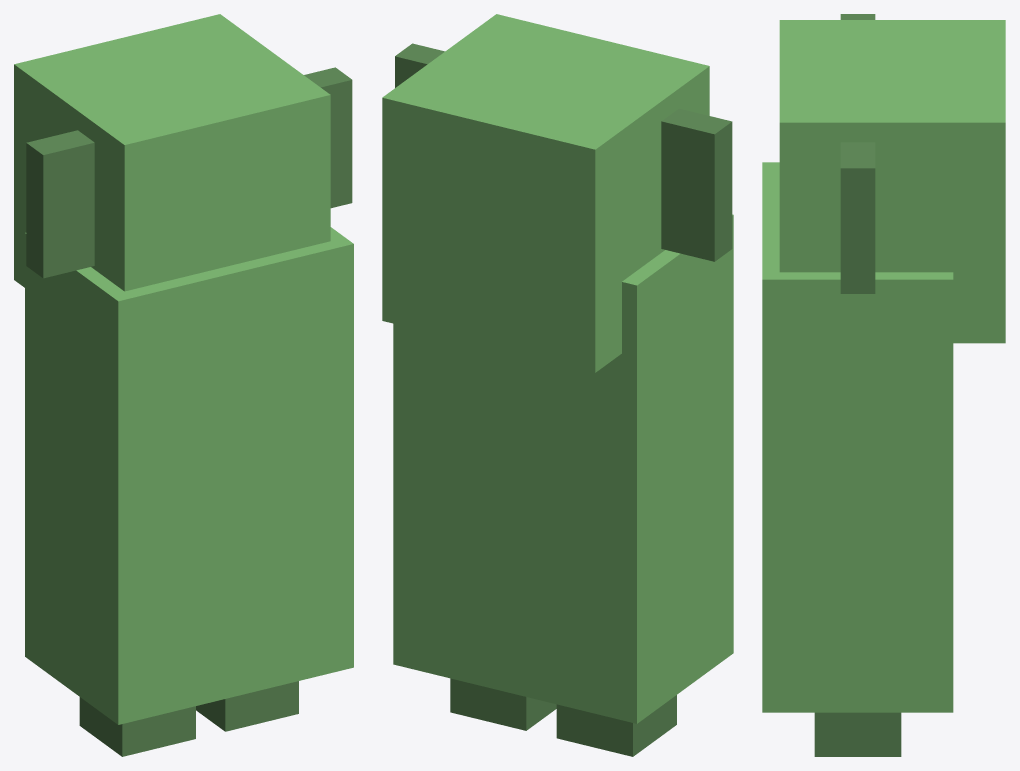
File: voxel_goblin.glb
3 renders of one model, left to right at view 1: azimuth 30°, elevation 25°; view 2: azimuth 150°, elevation 25°; view 3: azimuth 270°, elevation 25°, orthographic. The views are drawn at different scales.
Parts seen in each view (by area): view 1: g_body, g_head, g_earL, g_legL, g_earR, g_legR; view 2: g_body, g_head, g_earL, g_legL, g_legR, g_earR; view 3: g_body, g_head, g_earR, g_legR.
Boxes of the visible parts, left/top/right/bottom form: g_body: left=25, top=227, right=353, bottom=724; g_head: left=14, top=14, right=330, bottom=291; g_earL: left=26, top=130, right=94, bottom=278; g_legL: left=79, top=697, right=195, bottom=756; g_earR: left=304, top=67, right=352, bottom=208; g_legR: left=196, top=681, right=298, bottom=731; g_body: left=393, top=214, right=733, bottom=723; g_head: left=382, top=14, right=709, bottom=372; g_earL: left=661, top=108, right=732, bottom=261; g_legL: left=556, top=695, right=676, bottom=756; g_legR: left=450, top=678, right=556, bottom=730; g_earR: left=395, top=43, right=444, bottom=87; g_body: left=762, top=162, right=953, bottom=712; g_head: left=779, top=20, right=1005, bottom=343; g_earR: left=840, top=142, right=875, bottom=293; g_legR: left=814, top=712, right=901, bottom=756.
Bounding box in the file's own units: 0.84 × 1.63 × 0.56.
